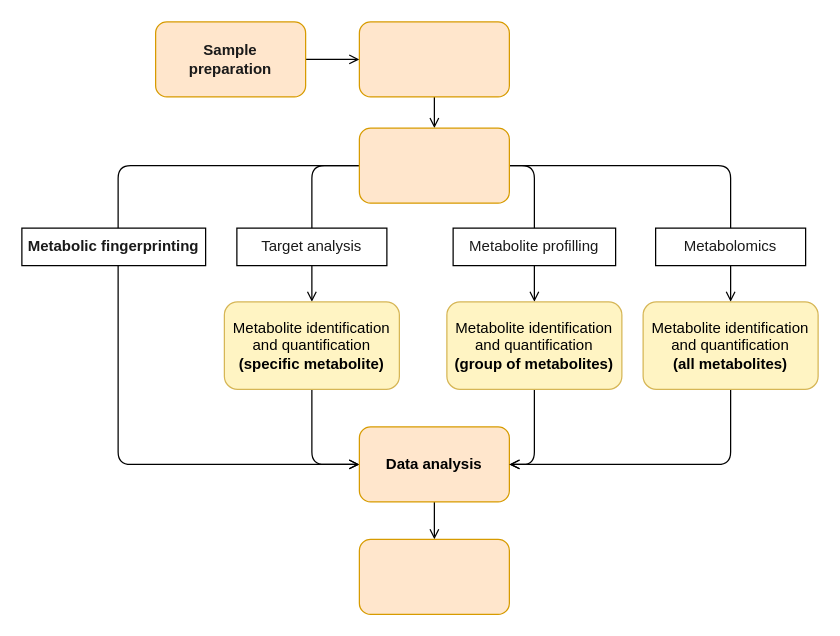
Image size: 840x636. Some labels were removed from this diagram. Each missing label, with the centre of its shape:
"Data acquisition" goes at pixel 433 59.
"Data interpretation" goes at pixel 433 576.
"Data Preprocessing" goes at pixel 433 165.
